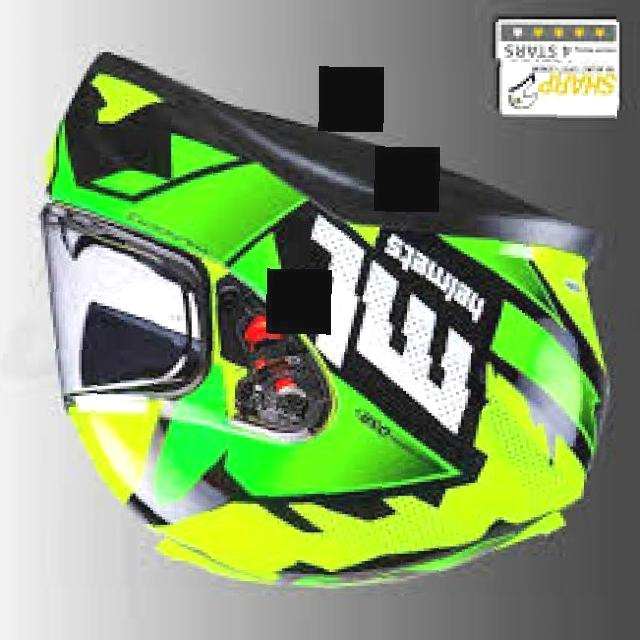helmet: (38, 53, 615, 593)
